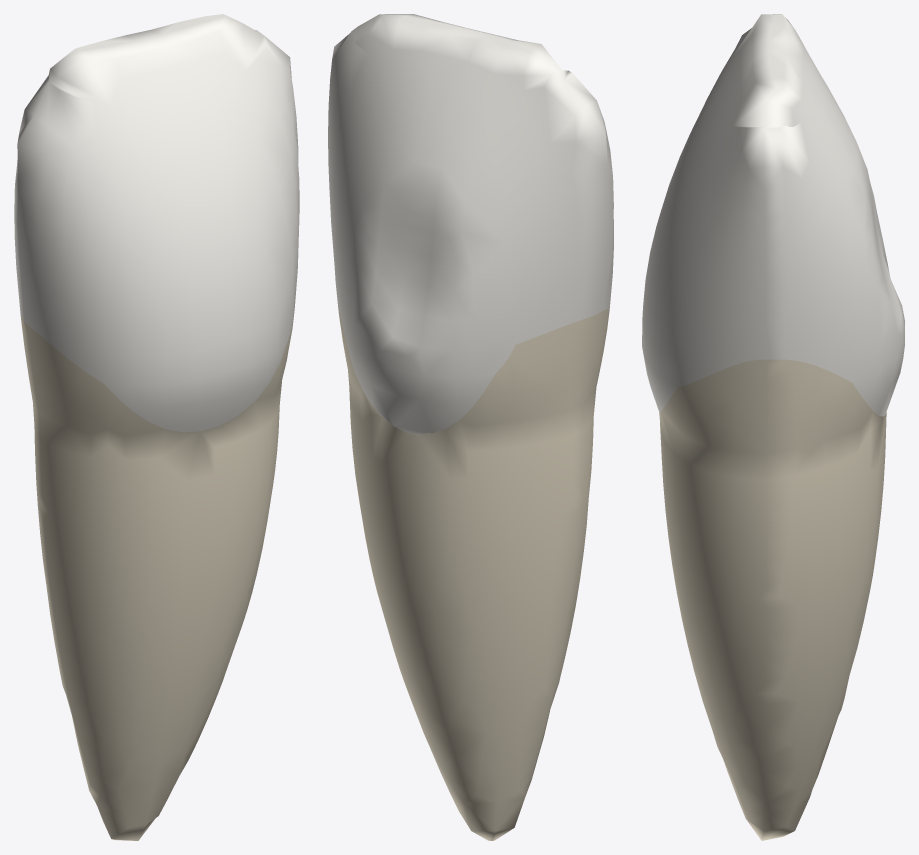
3 renders of one model, left to right at view 1: azimuth 30°, elevation 25°; view 2: azimuth 150°, elevation 25°; view 3: azimuth 270°, elevation 25°, orthographic.
Parts seen in each view (by area): view 1: root, V, D, I, M; view 2: root, L, D, I, M; view 3: root, M, L, V, I.
Boxes of the visible parts, x1=… form: root: x1=20, y1=310, x2=294, y2=840; V: x1=103, y1=82, x2=292, y2=432; D: x1=14, y1=75, x2=129, y2=383; I: x1=49, y1=14, x2=266, y2=106; M: x1=233, y1=36, x2=299, y2=336; root: x1=336, y1=287, x2=609, y2=840; L: x1=341, y1=86, x2=515, y2=434; D: x1=481, y1=74, x2=613, y2=372; I: x1=351, y1=14, x2=572, y2=90; M: x1=328, y1=31, x2=405, y2=330; root: x1=659, y1=359, x2=886, y2=840; M: x1=682, y1=106, x2=853, y2=383; L: x1=813, y1=64, x2=904, y2=416; V: x1=642, y1=71, x2=726, y2=411; I: x1=724, y1=14, x2=822, y2=127.
Size of the model in its own units: 8.46 by 23.5 by 6.98.
